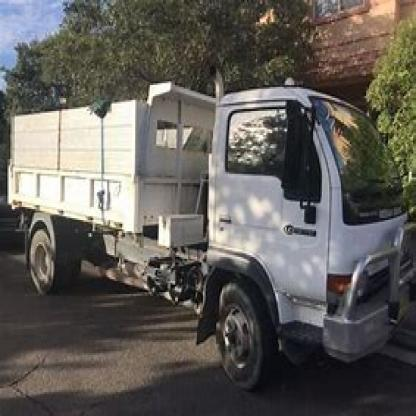dump_truck: (5, 76, 414, 386)
